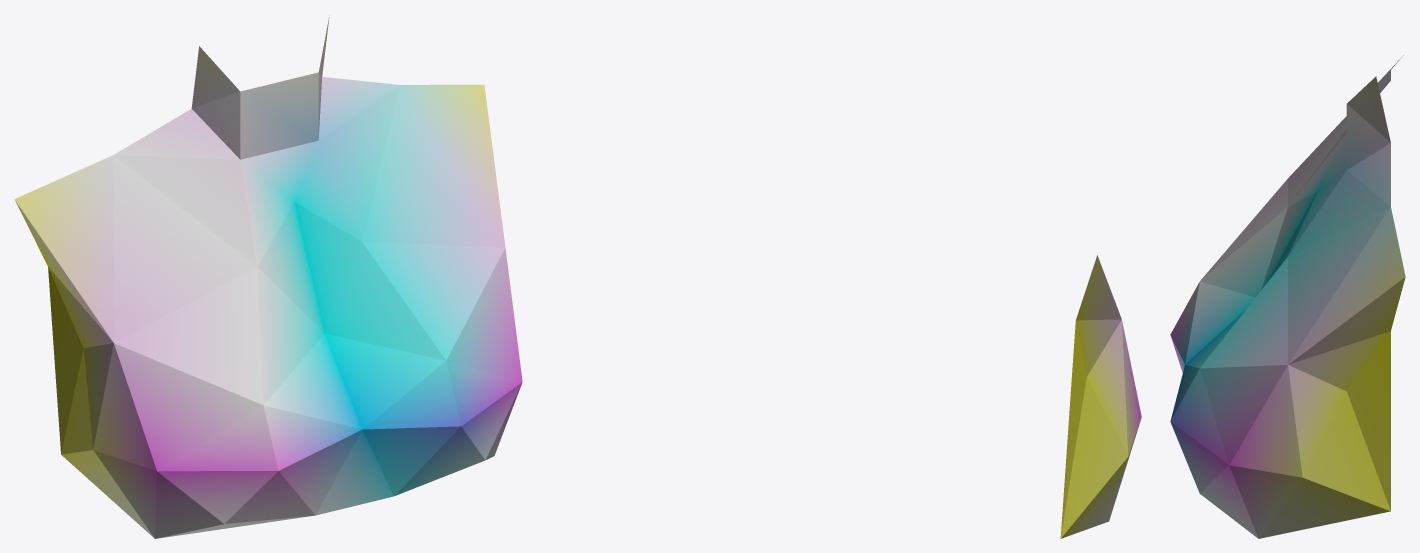
3 renders of one model, left to right at view 1: azimuth 30°, elevation 25°; view 2: azimuth 150°, elevation 25°; view 3: azimuth 270°, elevation 25°, orthographic. The views are drawn at different scales.
Visible parts, largest first — view 1: model_11BD; view 2: model_11BD; view 3: model_11BD.
Boxes of the visible parts, x1=… form: model_11BD: x1=14, y1=15, x2=522, y2=538; model_11BD: x1=1060, y1=255, x2=1141, y2=538; model_11BD: x1=1170, y1=55, x2=1405, y2=538.
Bounding box in the file's own units: 36 × 31 × 16.
